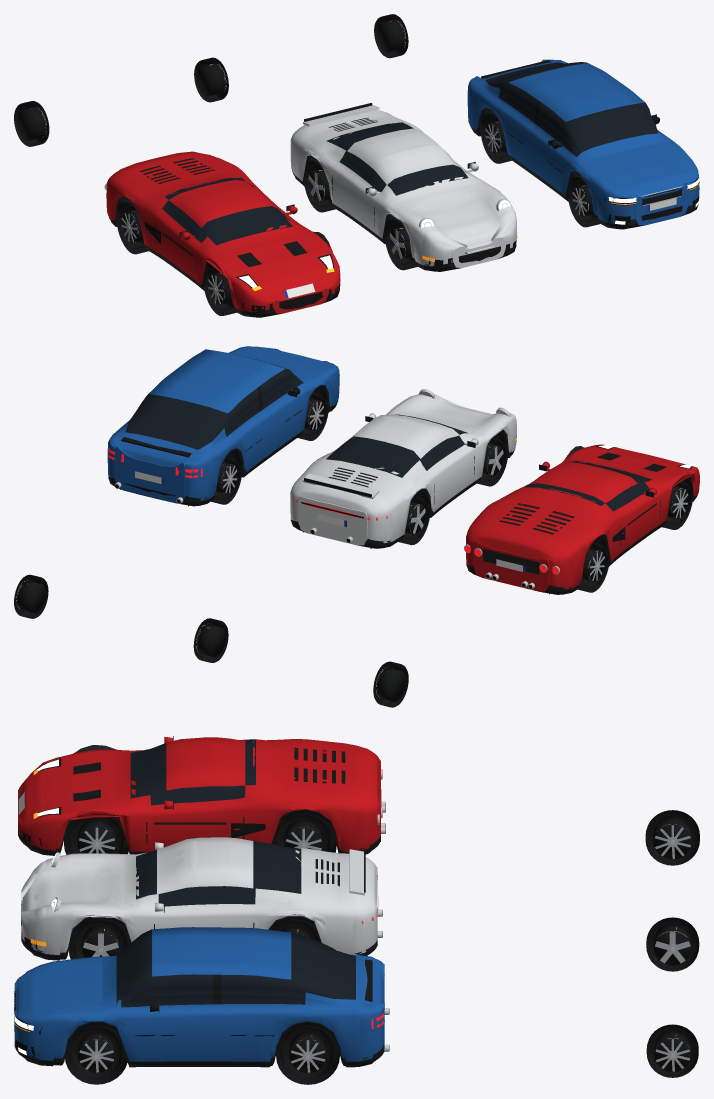
Rendered from sportscars.glb.
3 views of the same model, one above another, from view 1: azimuth 30°, elevation 25°; view 2: azimuth 150°, elevation 25°; view 3: azimuth 270°, elevation 25° (orthographic). The views are drawn at different scales.
Visible parts, largest first — view 1: car_rs_lo, car_rosso_lo, car_gt_lo, car_rosso_hi, car_gt_hi, car_rs_hi, car_rosso_wheel, car_gt_wheel, car_rs_wheel; view 2: car_rs_lo, car_rosso_lo, car_gt_lo, car_rosso_hi, car_gt_hi, car_rs_hi, car_rosso_wheel, car_gt_wheel, car_rs_wheel; view 3: car_rs_lo, car_rosso_lo, car_gt_lo, car_rs_hi, car_rosso_hi, car_gt_hi, car_rosso_wheel, car_gt_wheel, car_rs_wheel.
Part boxes in pixels (x1,y1,x2,y2): car_rs_lo: [467, 59, 699, 229]; car_rosso_lo: [106, 151, 340, 317]; car_gt_lo: [290, 110, 516, 271]; car_rosso_hi: [104, 153, 340, 316]; car_gt_hi: [290, 103, 517, 271]; car_rs_hi: [467, 59, 699, 228]; car_rosso_wheel: [14, 101, 49, 146]; car_gt_wheel: [194, 57, 228, 102]; car_rs_wheel: [374, 14, 408, 58]; car_rs_lo: [107, 346, 339, 506]; car_rosso_lo: [466, 444, 699, 594]; car_gt_lo: [290, 394, 515, 548]; car_rosso_hi: [464, 444, 699, 594]; car_gt_hi: [290, 389, 516, 548]; car_rs_hi: [107, 346, 339, 506]; car_rosso_wheel: [373, 661, 408, 707]; car_gt_wheel: [193, 618, 228, 662]; car_rs_wheel: [14, 574, 48, 618]; car_rs_lo: [14, 927, 384, 1078]; car_rosso_lo: [18, 737, 380, 855]; car_gt_lo: [21, 837, 377, 960]; car_rs_hi: [14, 935, 389, 1084]; car_rosso_hi: [18, 736, 385, 854]; car_gt_hi: [21, 840, 382, 959]; car_rosso_wheel: [645, 810, 699, 865]; car_gt_wheel: [646, 917, 699, 971]; car_rs_wheel: [646, 1024, 698, 1077].
Size of the model in its own units: 8.39 by 1.78 by 8.7.
